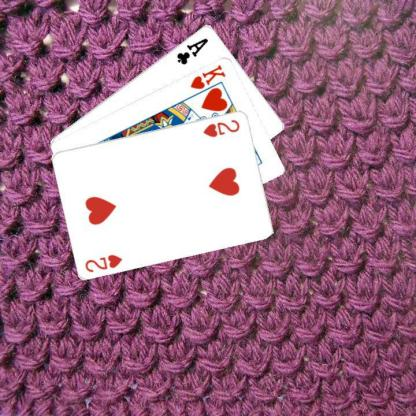2H: (200, 116, 242, 138), (82, 252, 124, 274)
AC: (174, 35, 210, 66)
KH: (188, 61, 227, 90)
